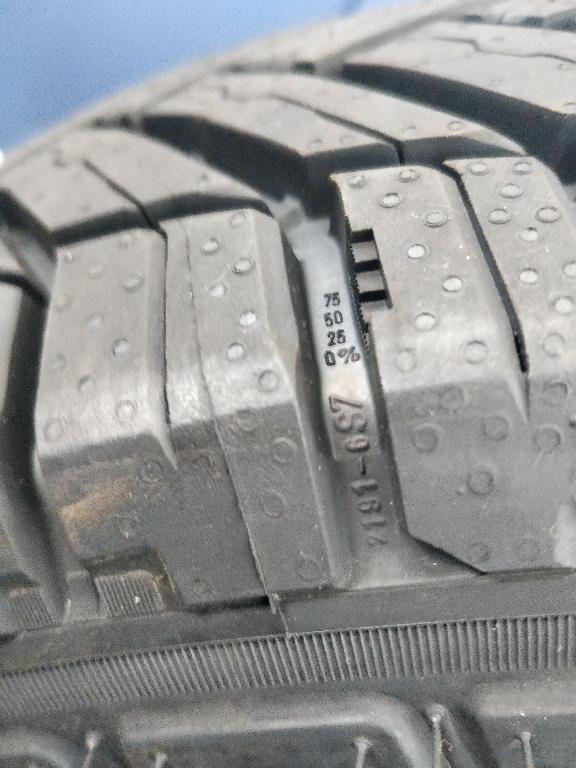temoin:100: (342, 213, 397, 363)
